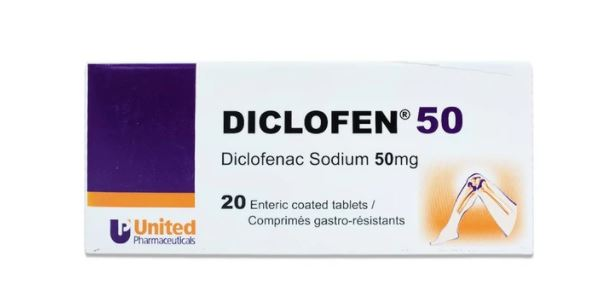Medicine: (82, 54, 542, 263)
